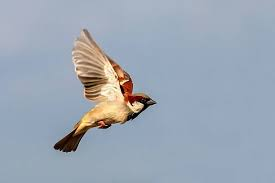hsparrow: (43, 23, 159, 159)
